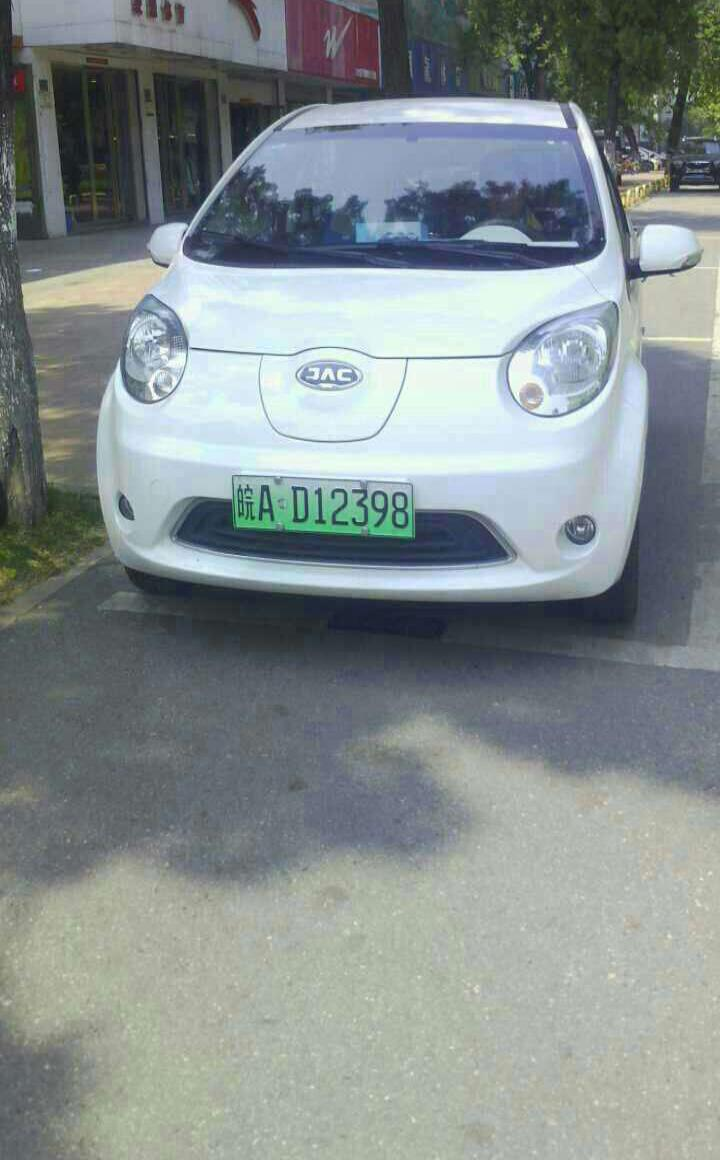car: (231, 470, 418, 540)
